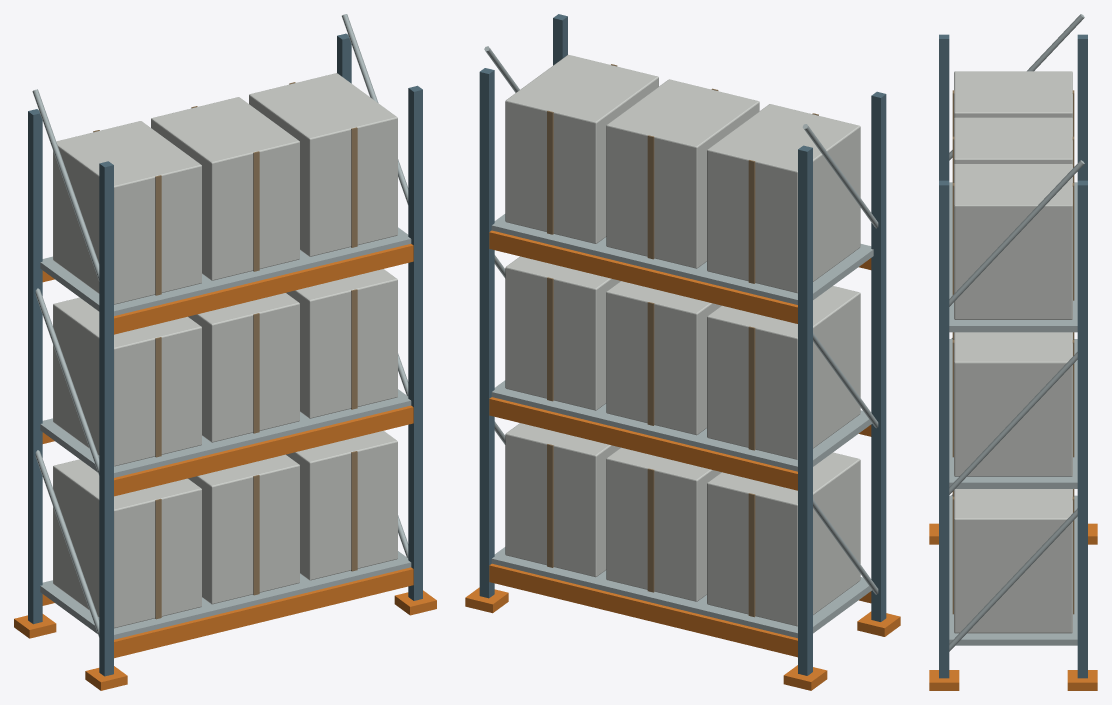
The model's file is loaded_storage_rack.glb.
3 views of the same model, side by side, from view 1: azimuth 30°, elevation 25°; view 2: azimuth 150°, elevation 25°; view 3: azimuth 270°, elevation 25° (orthographic). The views are drawn at different scales.
Parts seen in each view (by area): view 1: loaded_storage_rack; view 2: loaded_storage_rack; view 3: loaded_storage_rack.
Part boxes in pixels (box(x1,y1,x2,y2)): loaded_storage_rack: box(14, 14, 436, 690); loaded_storage_rack: box(465, 14, 900, 690); loaded_storage_rack: box(929, 14, 1097, 690).
Bounding box in the file's own units: 3.26 × 5.02 × 1.46.
